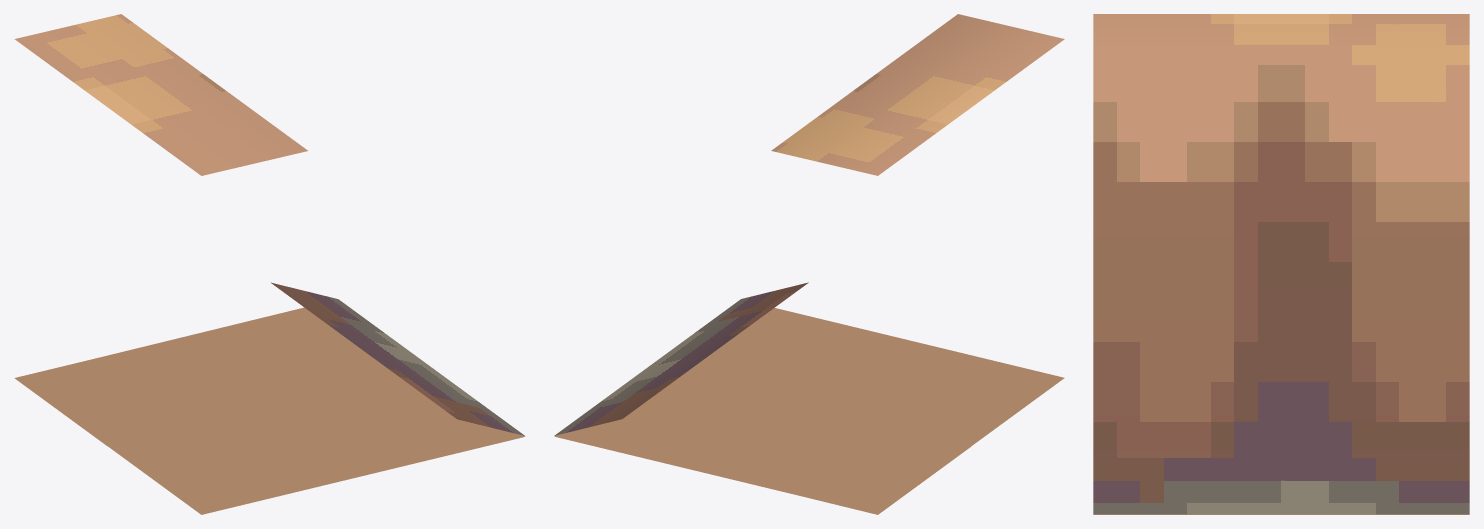
The picture shows the model from 3 angles, left to right: view 1: azimuth 30°, elevation 25°; view 2: azimuth 150°, elevation 25°; view 3: azimuth 270°, elevation 25°; orthographic projection.
Bounding box in the file's own units: 1 × 1 × 1.
Materials: 2 (2 with a texture image).
